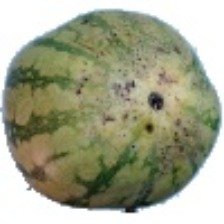watermelon: (29, 24, 213, 203)
